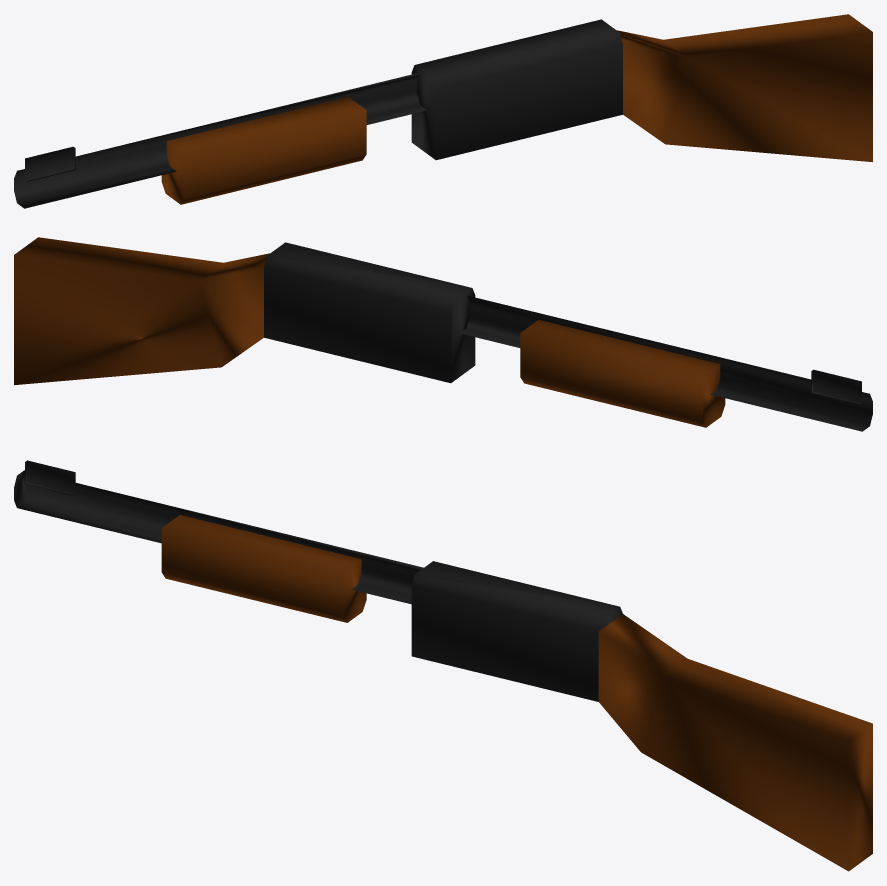
Rendered from shotgun.glb.
3 views of the same model, one above another, from view 1: azimuth 30°, elevation 25°; view 2: azimuth 150°, elevation 25°; view 3: azimuth 330°, elevation 25° (orthographic).
Parts seen in each view (by area): view 1: Cube.001, Cube.003, Cube.002; view 2: Cube.001, Cube.003, Cube.002; view 3: Cube.003, Cube.001, Cube.002.
Part boxes in pixels (x1,y1,x2,y2): Cube.001: (14, 19, 622, 208); Cube.003: (617, 14, 872, 162); Cube.002: (161, 96, 366, 204); Cube.001: (264, 242, 872, 431); Cube.003: (14, 237, 269, 385); Cube.002: (520, 319, 725, 427); Cube.003: (598, 614, 872, 871); Cube.001: (14, 460, 622, 701); Cube.002: (161, 515, 366, 622).
Size of the model in its own units: 4.08 by 0.9168 by 0.2039.
